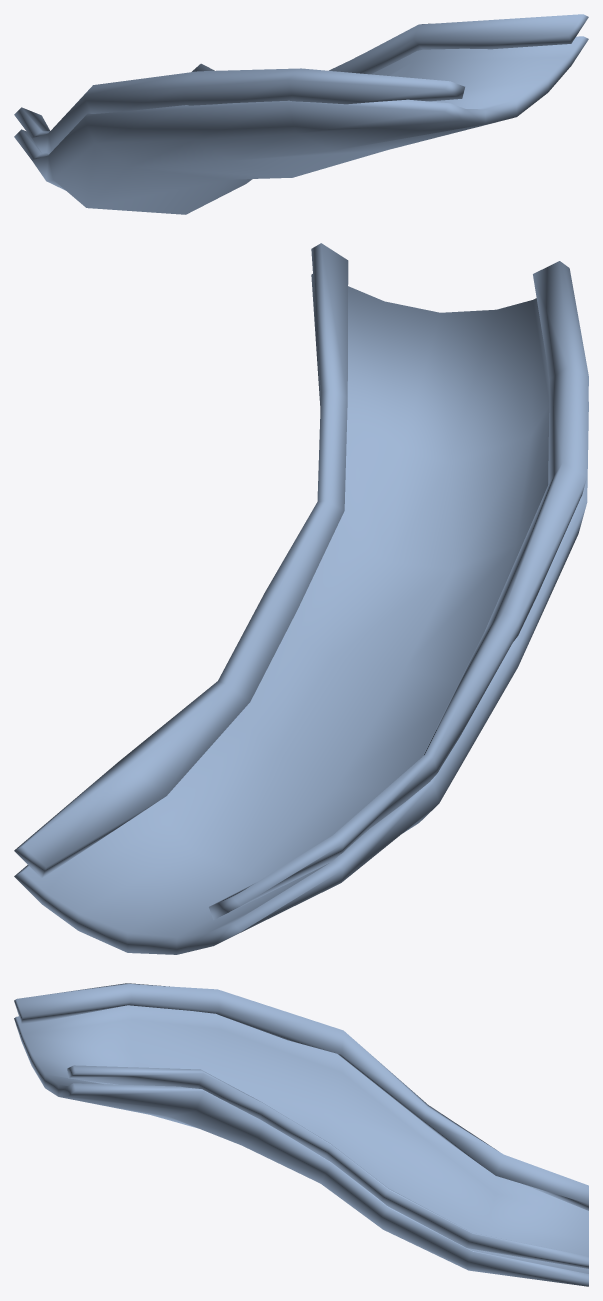
File: junRoadShortSlope5_20.fbx
The picture shows the model from 3 angles, top to bottom: view 1: azimuth 30°, elevation 25°; view 2: azimuth 150°, elevation 25°; view 3: azimuth 270°, elevation 25°; orthographic projection. The views are drawn at different scales.
Parts seen in each view (by area): view 1: roadShortSlope5_20_LOD0, roadShortSlope5_20_edge_LOD0; view 2: roadShortSlope5_20_LOD0, roadShortSlope5_20_edge_LOD0; view 3: roadShortSlope5_20_LOD0, roadShortSlope5_20_edge_LOD0.
Boxes of the visible parts, x1=… form: roadShortSlope5_20_LOD0: x1=14, y1=36, x2=588, y2=214; roadShortSlope5_20_edge_LOD0: x1=14, y1=14, x2=588, y2=153; roadShortSlope5_20_LOD0: x1=14, y1=274, x2=588, y2=954; roadShortSlope5_20_edge_LOD0: x1=14, y1=243, x2=588, y2=920; roadShortSlope5_20_LOD0: x1=14, y1=1005, x2=588, y2=1286; roadShortSlope5_20_edge_LOD0: x1=14, y1=983, x2=588, y2=1268.
Bounding box in the file's own units: 1134 × 1069 × 2048.
